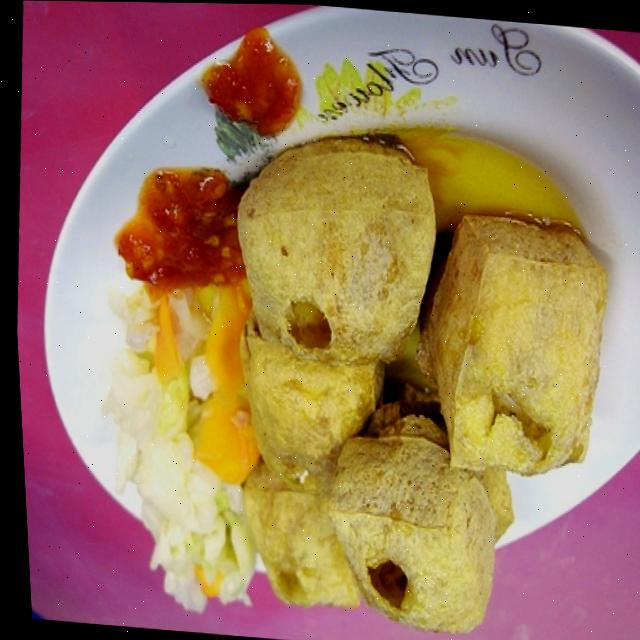豆腐料理: (7, 4, 640, 640)
